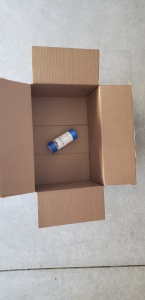innerbox: (32, 83, 103, 187)
outerbox: (1, 46, 137, 225)
product: (49, 128, 76, 153)
